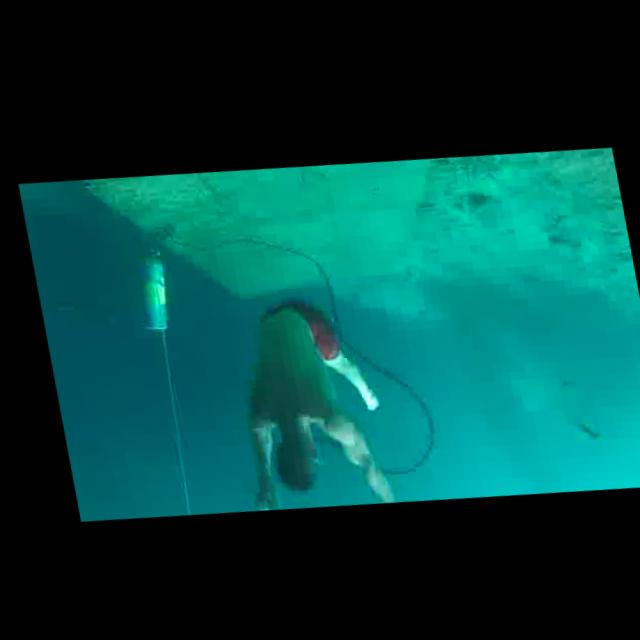human: (207, 280, 393, 514)
